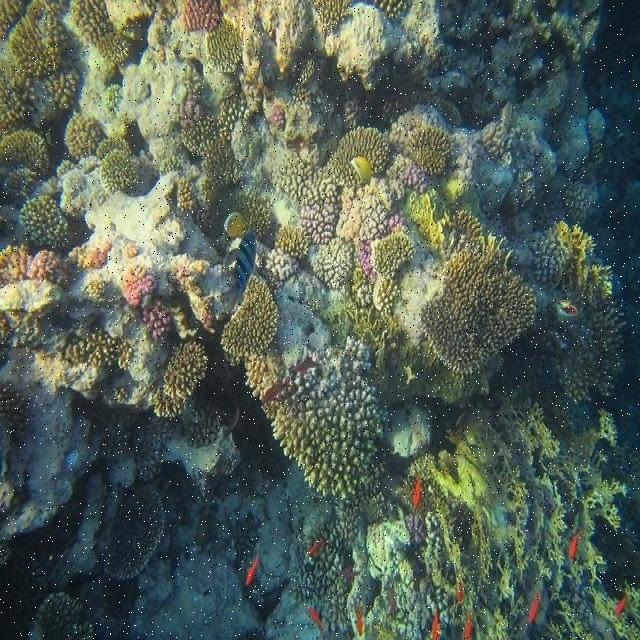aquatic plants: (432, 390, 639, 639)
fish: (218, 235, 256, 317)
reefs: (246, 335, 396, 639), (410, 190, 539, 371), (531, 219, 627, 403), (178, 66, 272, 251), (267, 125, 388, 242), (0, 0, 81, 135), (104, 485, 164, 577), (219, 273, 280, 362), (70, 1, 132, 82), (150, 338, 207, 418), (369, 230, 414, 317), (0, 130, 54, 202), (19, 191, 73, 251), (64, 328, 133, 373), (405, 124, 450, 176), (313, 236, 354, 289), (66, 111, 107, 162), (98, 148, 139, 194), (207, 21, 242, 72), (140, 295, 172, 343), (122, 264, 156, 307), (181, 0, 220, 31), (274, 222, 307, 258)
